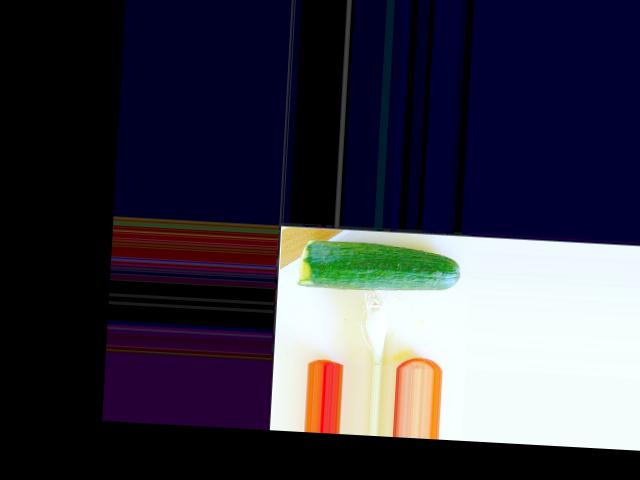cucumber: (297, 238, 463, 294)
